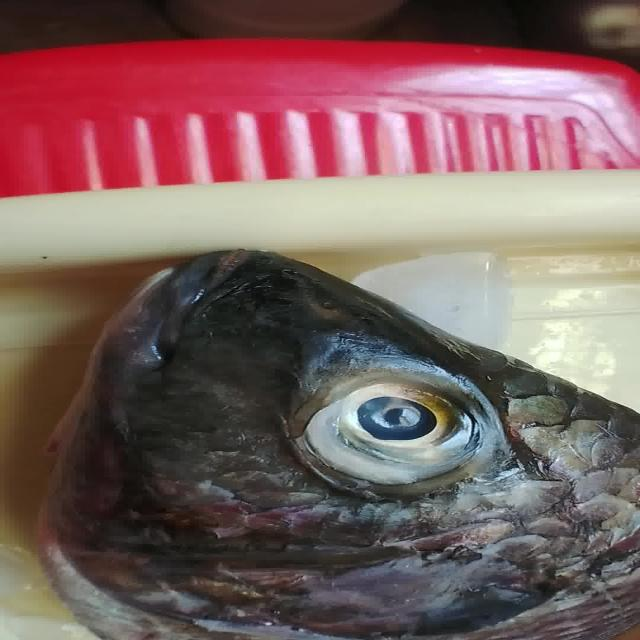Fresh: (272, 344, 526, 501)
